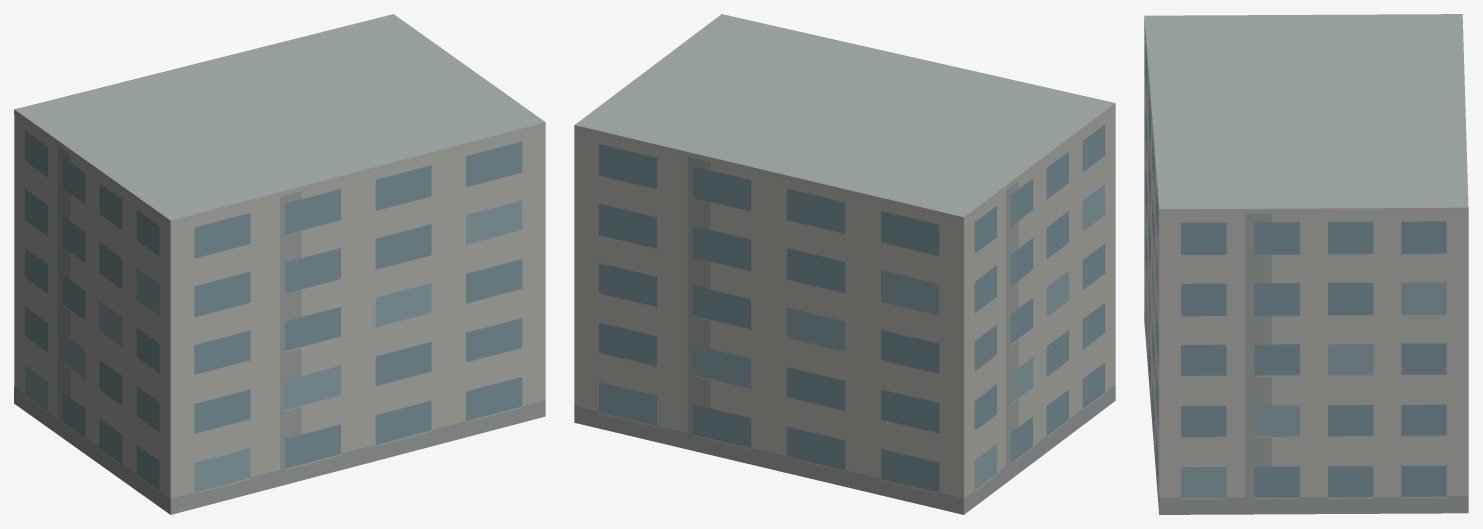
Rendered from survey-upis-32760808.glb.
The picture shows the model from 3 angles, left to right: view 1: azimuth 30°, elevation 25°; view 2: azimuth 150°, elevation 25°; view 3: azimuth 270°, elevation 25°; orthographic projection. The views are drawn at different scales.
Parts seen in each view (by area): view 1: survey-upis-32760808.tmp; view 2: survey-upis-32760808.tmp; view 3: survey-upis-32760808.tmp.
Boxes of the visible parts, <box> form: survey-upis-32760808.tmp: <box>14,14,545,514</box>; survey-upis-32760808.tmp: <box>574,14,1115,514</box>; survey-upis-32760808.tmp: <box>1144,14,1468,514</box>.
Bounding box in the file's own units: 20.85 × 15.2 × 14.62.
